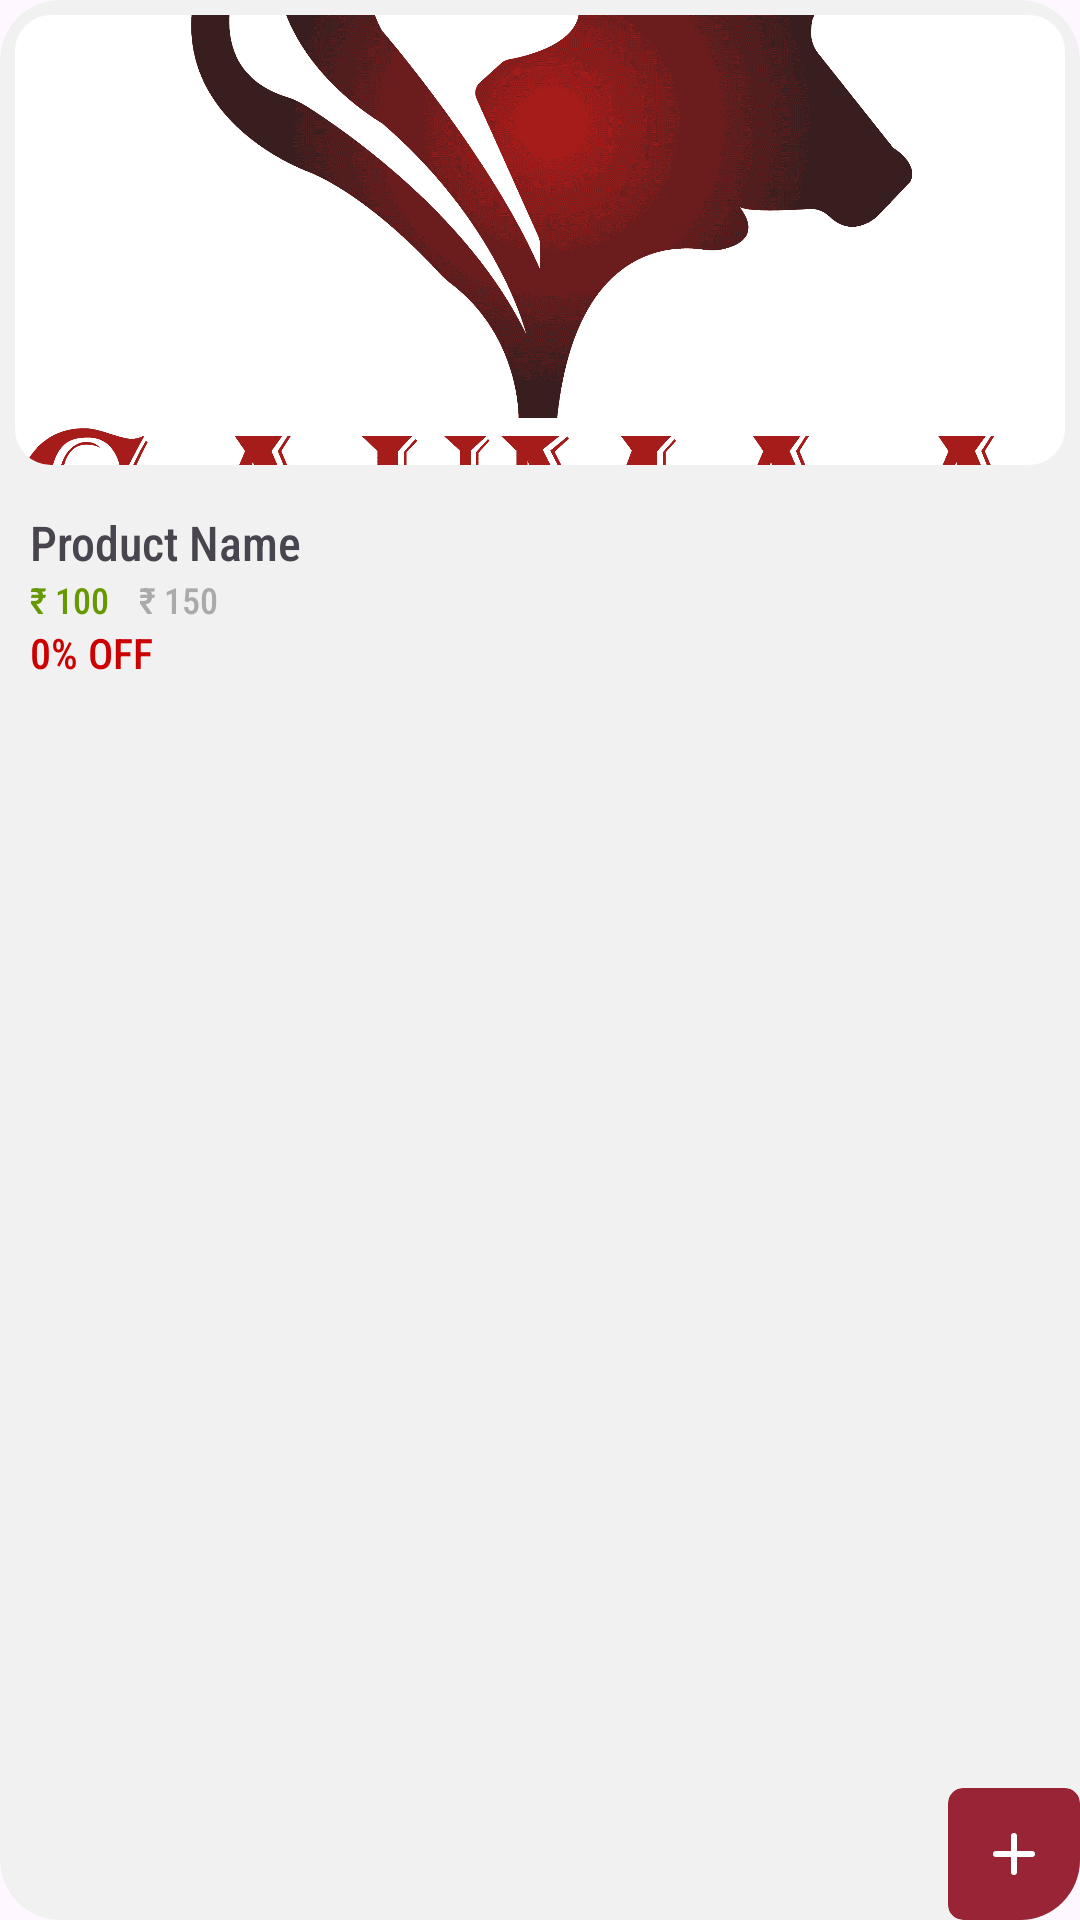

Locate icon controls on the screen. Image size 1080w x 1920h, boxes as (x1, y1, x2, y2).
add: (993, 1833, 1035, 1875)
